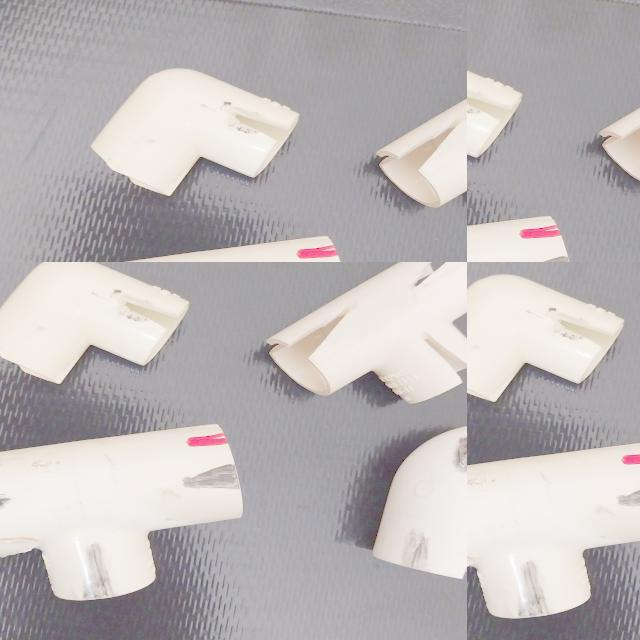Defective: (519, 559, 549, 613), (601, 488, 640, 514), (620, 450, 640, 467)
L Joint: (467, 274, 624, 400)
T Joint: (467, 445, 640, 622)
